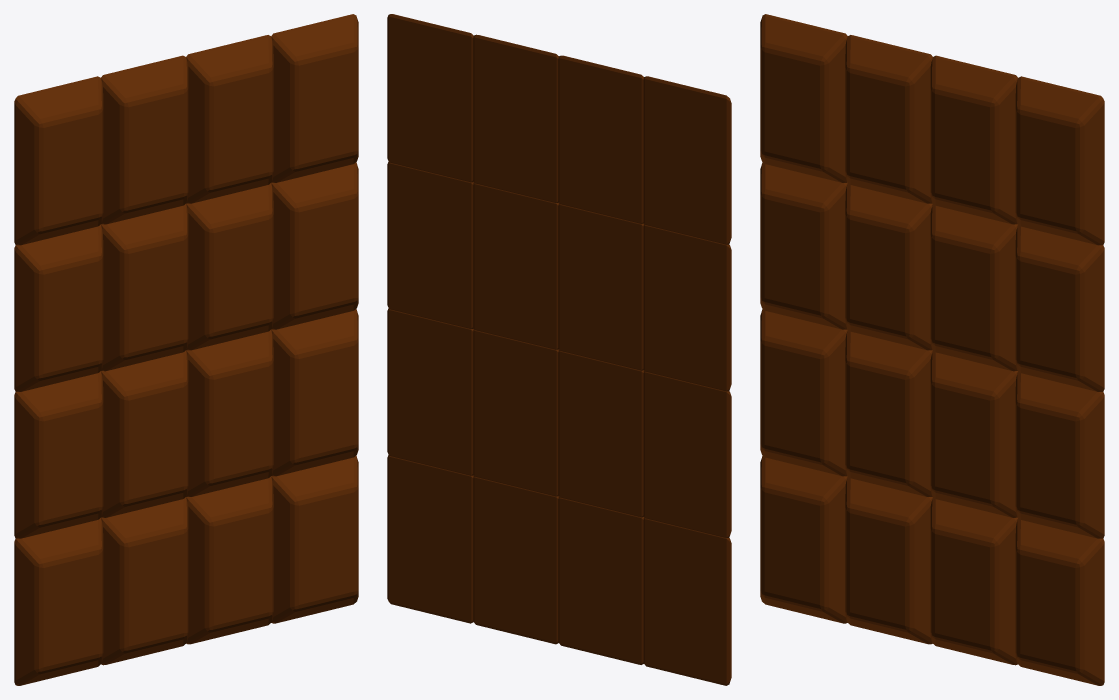
Rendered from chocolateBar.glb.
The picture shows the model from 3 angles, left to right: view 1: azimuth 30°, elevation 25°; view 2: azimuth 150°, elevation 25°; view 3: azimuth 330°, elevation 25°; orthographic projection.
Visible parts, largest first — view 1: Cube; view 2: Cube; view 3: Cube.
Part boxes in pixels (left/top/right/bottom): Cube: left=14, top=14, right=358, bottom=685; Cube: left=387, top=14, right=731, bottom=685; Cube: left=760, top=14, right=1104, bottom=685.
Bounding box in the file's own units: 1.2 × 1.98 × 0.0851.
